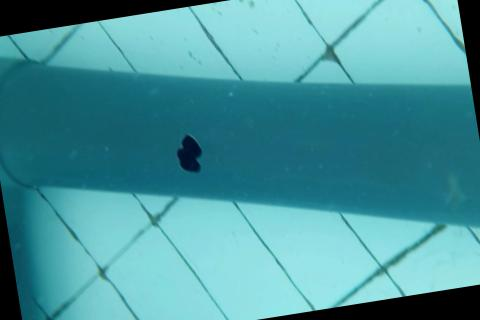kebocoran: (170, 128, 207, 176)
